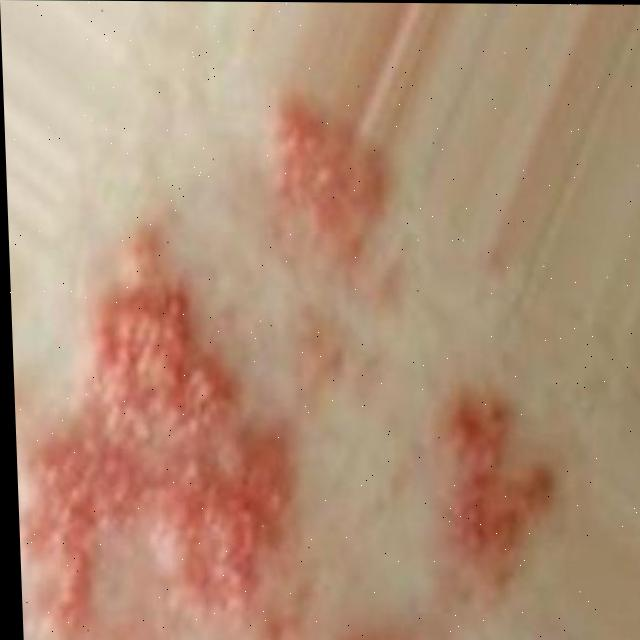Shingles: (12, 93, 561, 640)
